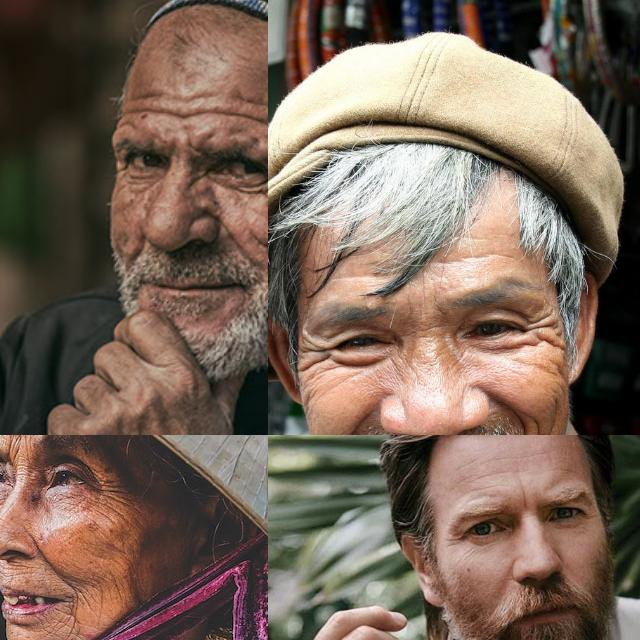bunny_line: (186, 164, 204, 190)
chin: (47, 616, 81, 640)
crows_feet: (526, 310, 558, 348), (300, 335, 328, 377), (99, 474, 121, 510), (445, 526, 467, 550)
forehead: (221, 96, 268, 137), (125, 86, 172, 120), (442, 242, 508, 266), (178, 86, 212, 125), (333, 266, 379, 292), (473, 462, 509, 486), (502, 448, 540, 466), (467, 480, 499, 496)
frown_line: (10, 460, 34, 480), (518, 484, 534, 514), (8, 435, 27, 453)
gummy_smile: (29, 538, 57, 572), (340, 411, 374, 435), (516, 408, 542, 435)
masseter: (254, 232, 268, 265), (261, 201, 268, 229)
sad_smile: (70, 579, 108, 613)
smoker_lines: (0, 563, 23, 584)
